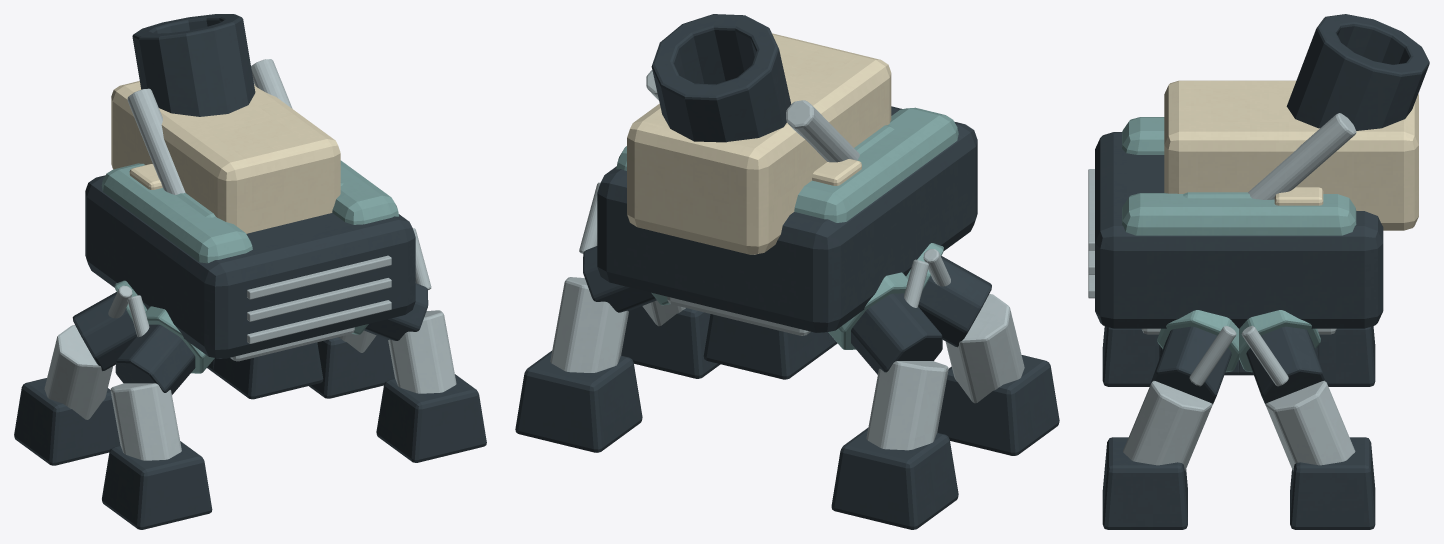
The model's file is kiln_tender.glb.
3 views of the same model, side by side, from view 1: azimuth 30°, elevation 25°; view 2: azimuth 150°, elevation 25°; view 3: azimuth 270°, elevation 25° (orthographic). The views are drawn at different scales.
Parts seen in each view (by area): view 1: L0_Chassis, L0_Weapon, L2_Hip2, L2_Hip3, L2_Hip0, L0_Hip2, L2_Hip1, L0_Shin2, L0_Hip0, L0_Hip3, L0_Turret; view 2: L0_Weapon, L0_Chassis, L2_Hip0, L2_Hip1, L2_Hip2, L0_Hip0, L2_Hip3, L0_Shin0, L0_Hip2, L0_Hip1, L0_Turret; view 3: L0_Chassis, L0_Weapon, L2_Hip1, L2_Hip3, L0_Hip3, L0_Hip1, L2_Hip2, L2_Hip0, L0_Turret.
Part boxes in pixels (x1,y1,x2,y2): L0_Chassis: [85, 160, 415, 361]; L0_Weapon: [111, 14, 340, 233]; L2_Hip2: [102, 383, 212, 529]; L2_Hip3: [376, 310, 486, 462]; L2_Hip0: [14, 325, 120, 465]; L0_Hip2: [115, 295, 214, 394]; L2_Hip1: [309, 330, 394, 398]; L0_Shin2: [213, 342, 323, 399]; L0_Hip0: [72, 280, 147, 371]; L0_Hip3: [352, 228, 431, 340]; L0_Turret: [129, 164, 343, 217]; L0_Weapon: [627, 14, 891, 254]; L0_Chassis: [597, 106, 977, 335]; L2_Hip0: [831, 361, 958, 529]; L2_Hip1: [515, 277, 642, 452]; L2_Hip2: [937, 294, 1059, 455]; L0_Hip0: [828, 259, 942, 374]; L2_Hip3: [621, 300, 720, 378]; L0_Shin0: [703, 314, 830, 379]; L0_Hip2: [906, 243, 991, 347]; L0_Hip1: [579, 182, 670, 312]; L0_Turret: [812, 125, 894, 185]; L0_Chassis: [1088, 117, 1383, 334]; L0_Weapon: [1164, 14, 1429, 230]; L2_Hip1: [1265, 380, 1375, 529]; L2_Hip3: [1102, 381, 1212, 529]; L0_Hip3: [1150, 310, 1238, 403]; L0_Hip1: [1239, 310, 1327, 403]; L2_Hip2: [1102, 326, 1158, 386]; L2_Hip0: [1319, 326, 1375, 386]; L0_Turret: [1183, 187, 1323, 205].
Size of the model in its own units: 1.15 by 1.22 by 0.9112.
Materials: 1 (1 with a texture image).
